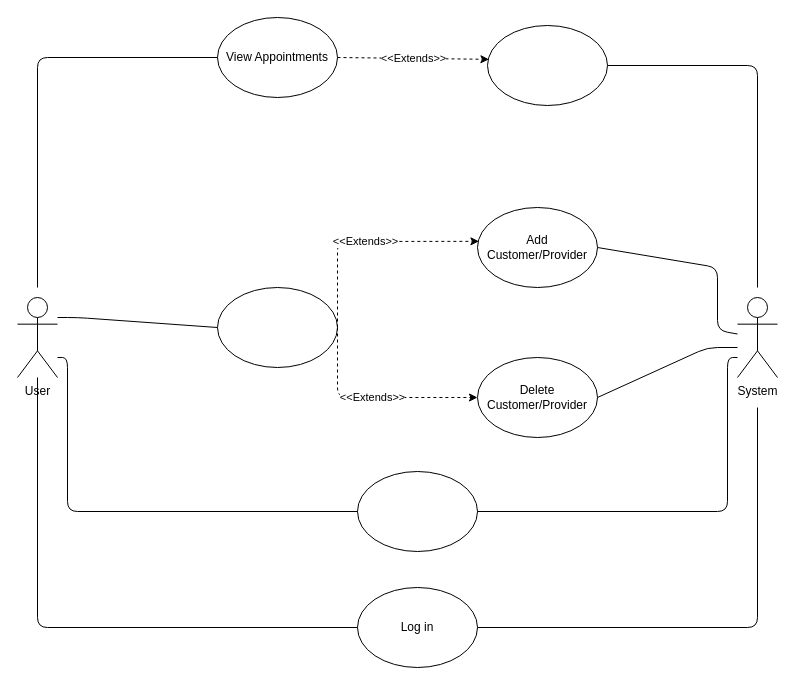
The diagram is 795 pixels wide and 685 high, and some of its shapes have lost their labels. Each missing label, with the centre of its shape:
"Add Appointment" belongs at point (547, 65).
"Sign in" belongs at point (417, 511).
"View Customers/Providers" belongs at point (277, 327).
